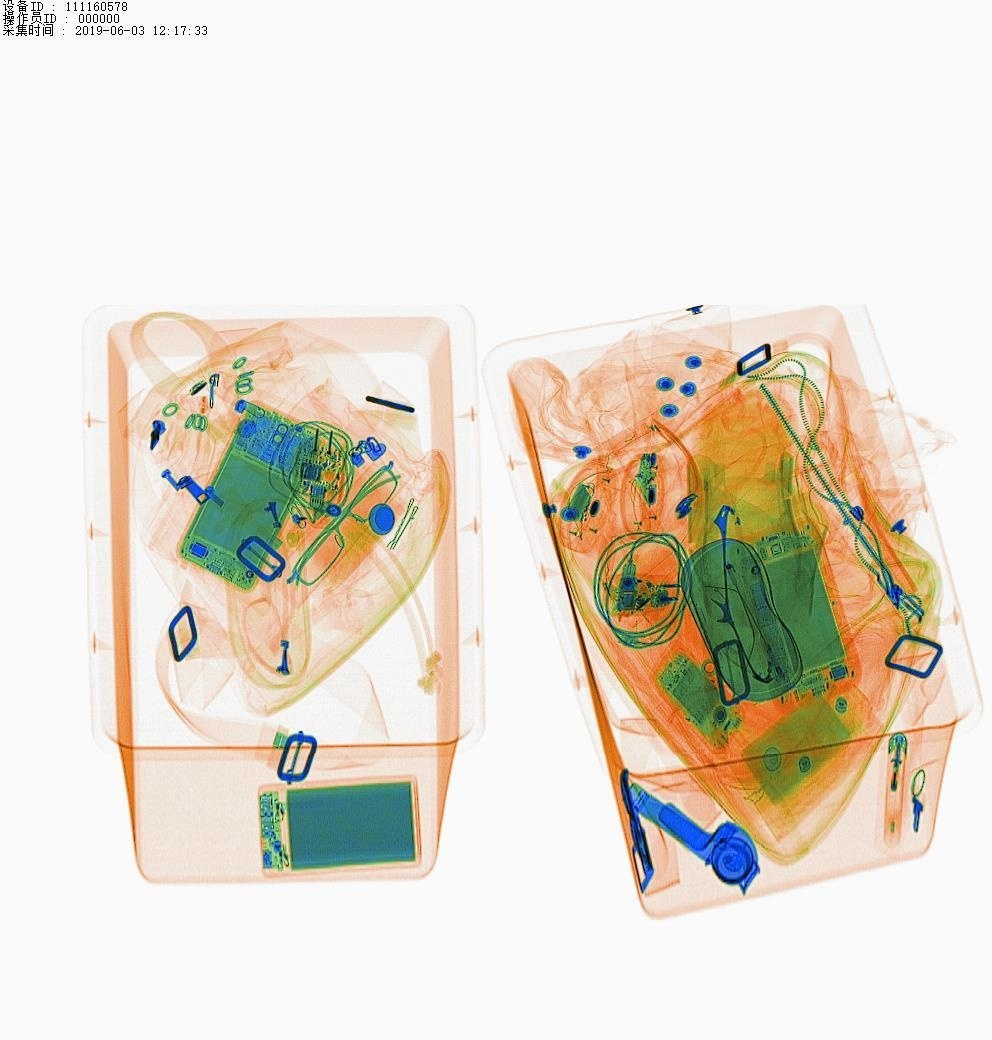NonmetallicFire: (866, 723, 935, 853)
